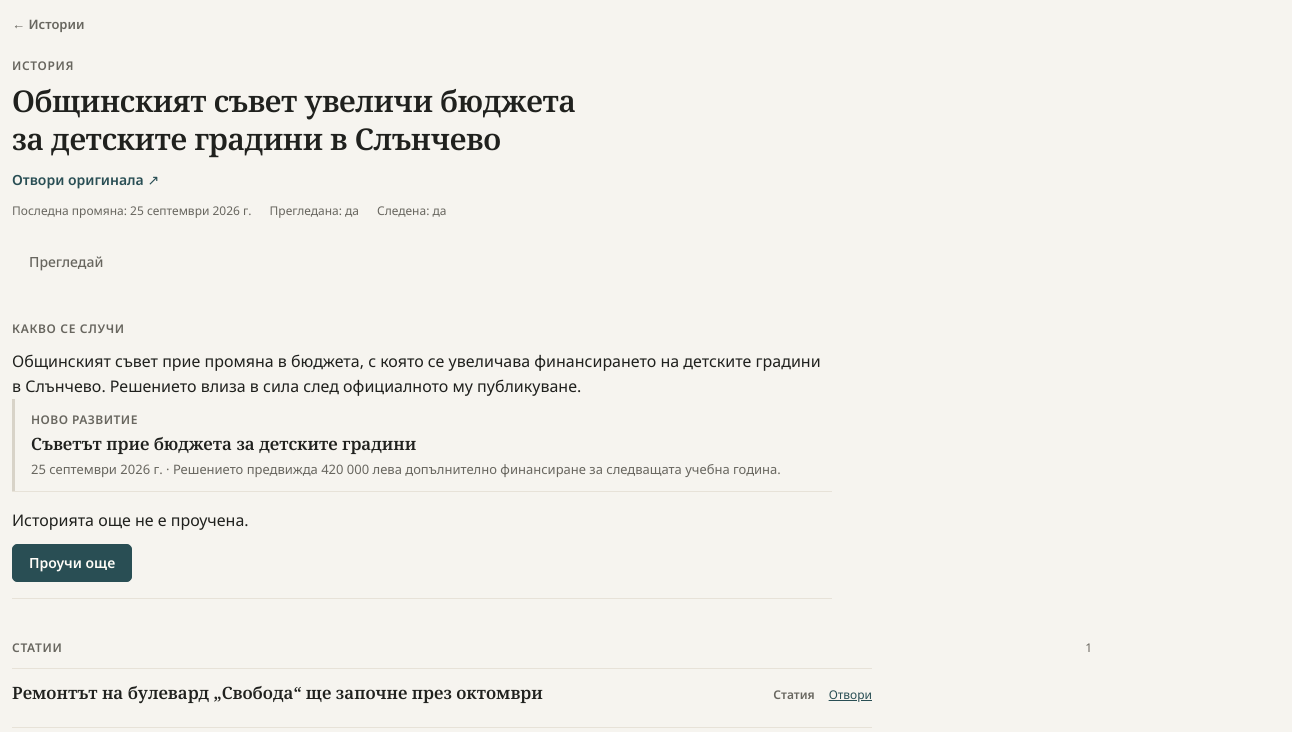
Test: V1.2-G2.2 — the research operation is followed, not timed out › says the round continues and offers one reattach instead of a retry
Expected: the heading "Общинският съвет увеличи бюджета за детските градини в Слънчево" is shown, [12,80,576,159]
Click the button "Проучи още" at [72, 563], box [12,544,132,582]
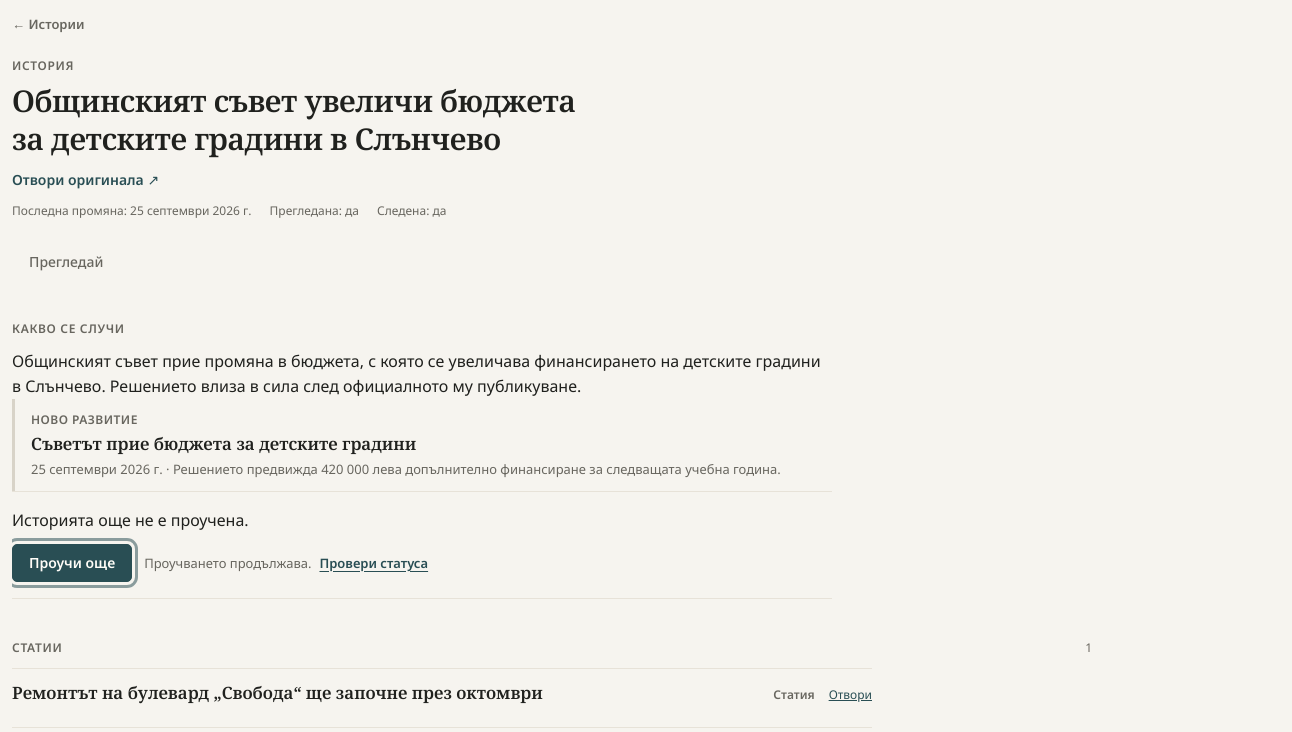
Expected: the text "Проучването продължава. Провери статуса" is shown, [144,554,428,572]
§2: one control, and it reattaches instead of starting a second round.
Click the button "Провери статуса" at [374, 563], box [320,554,428,572]
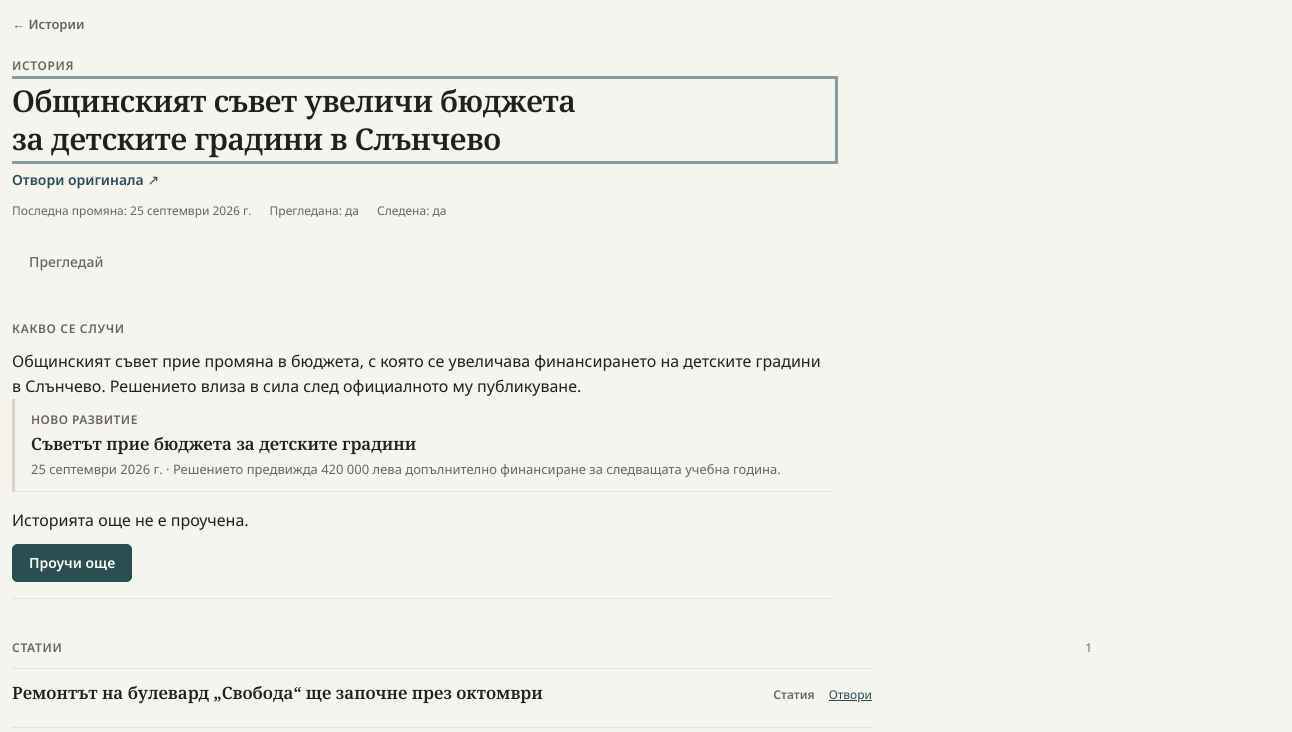
Expected: the text "Проучването продължава" is gone
